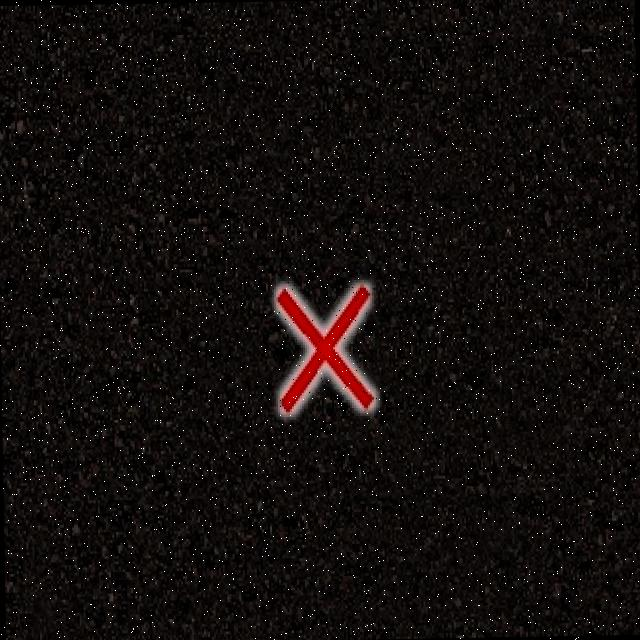x_marker: (276, 286, 372, 410)
